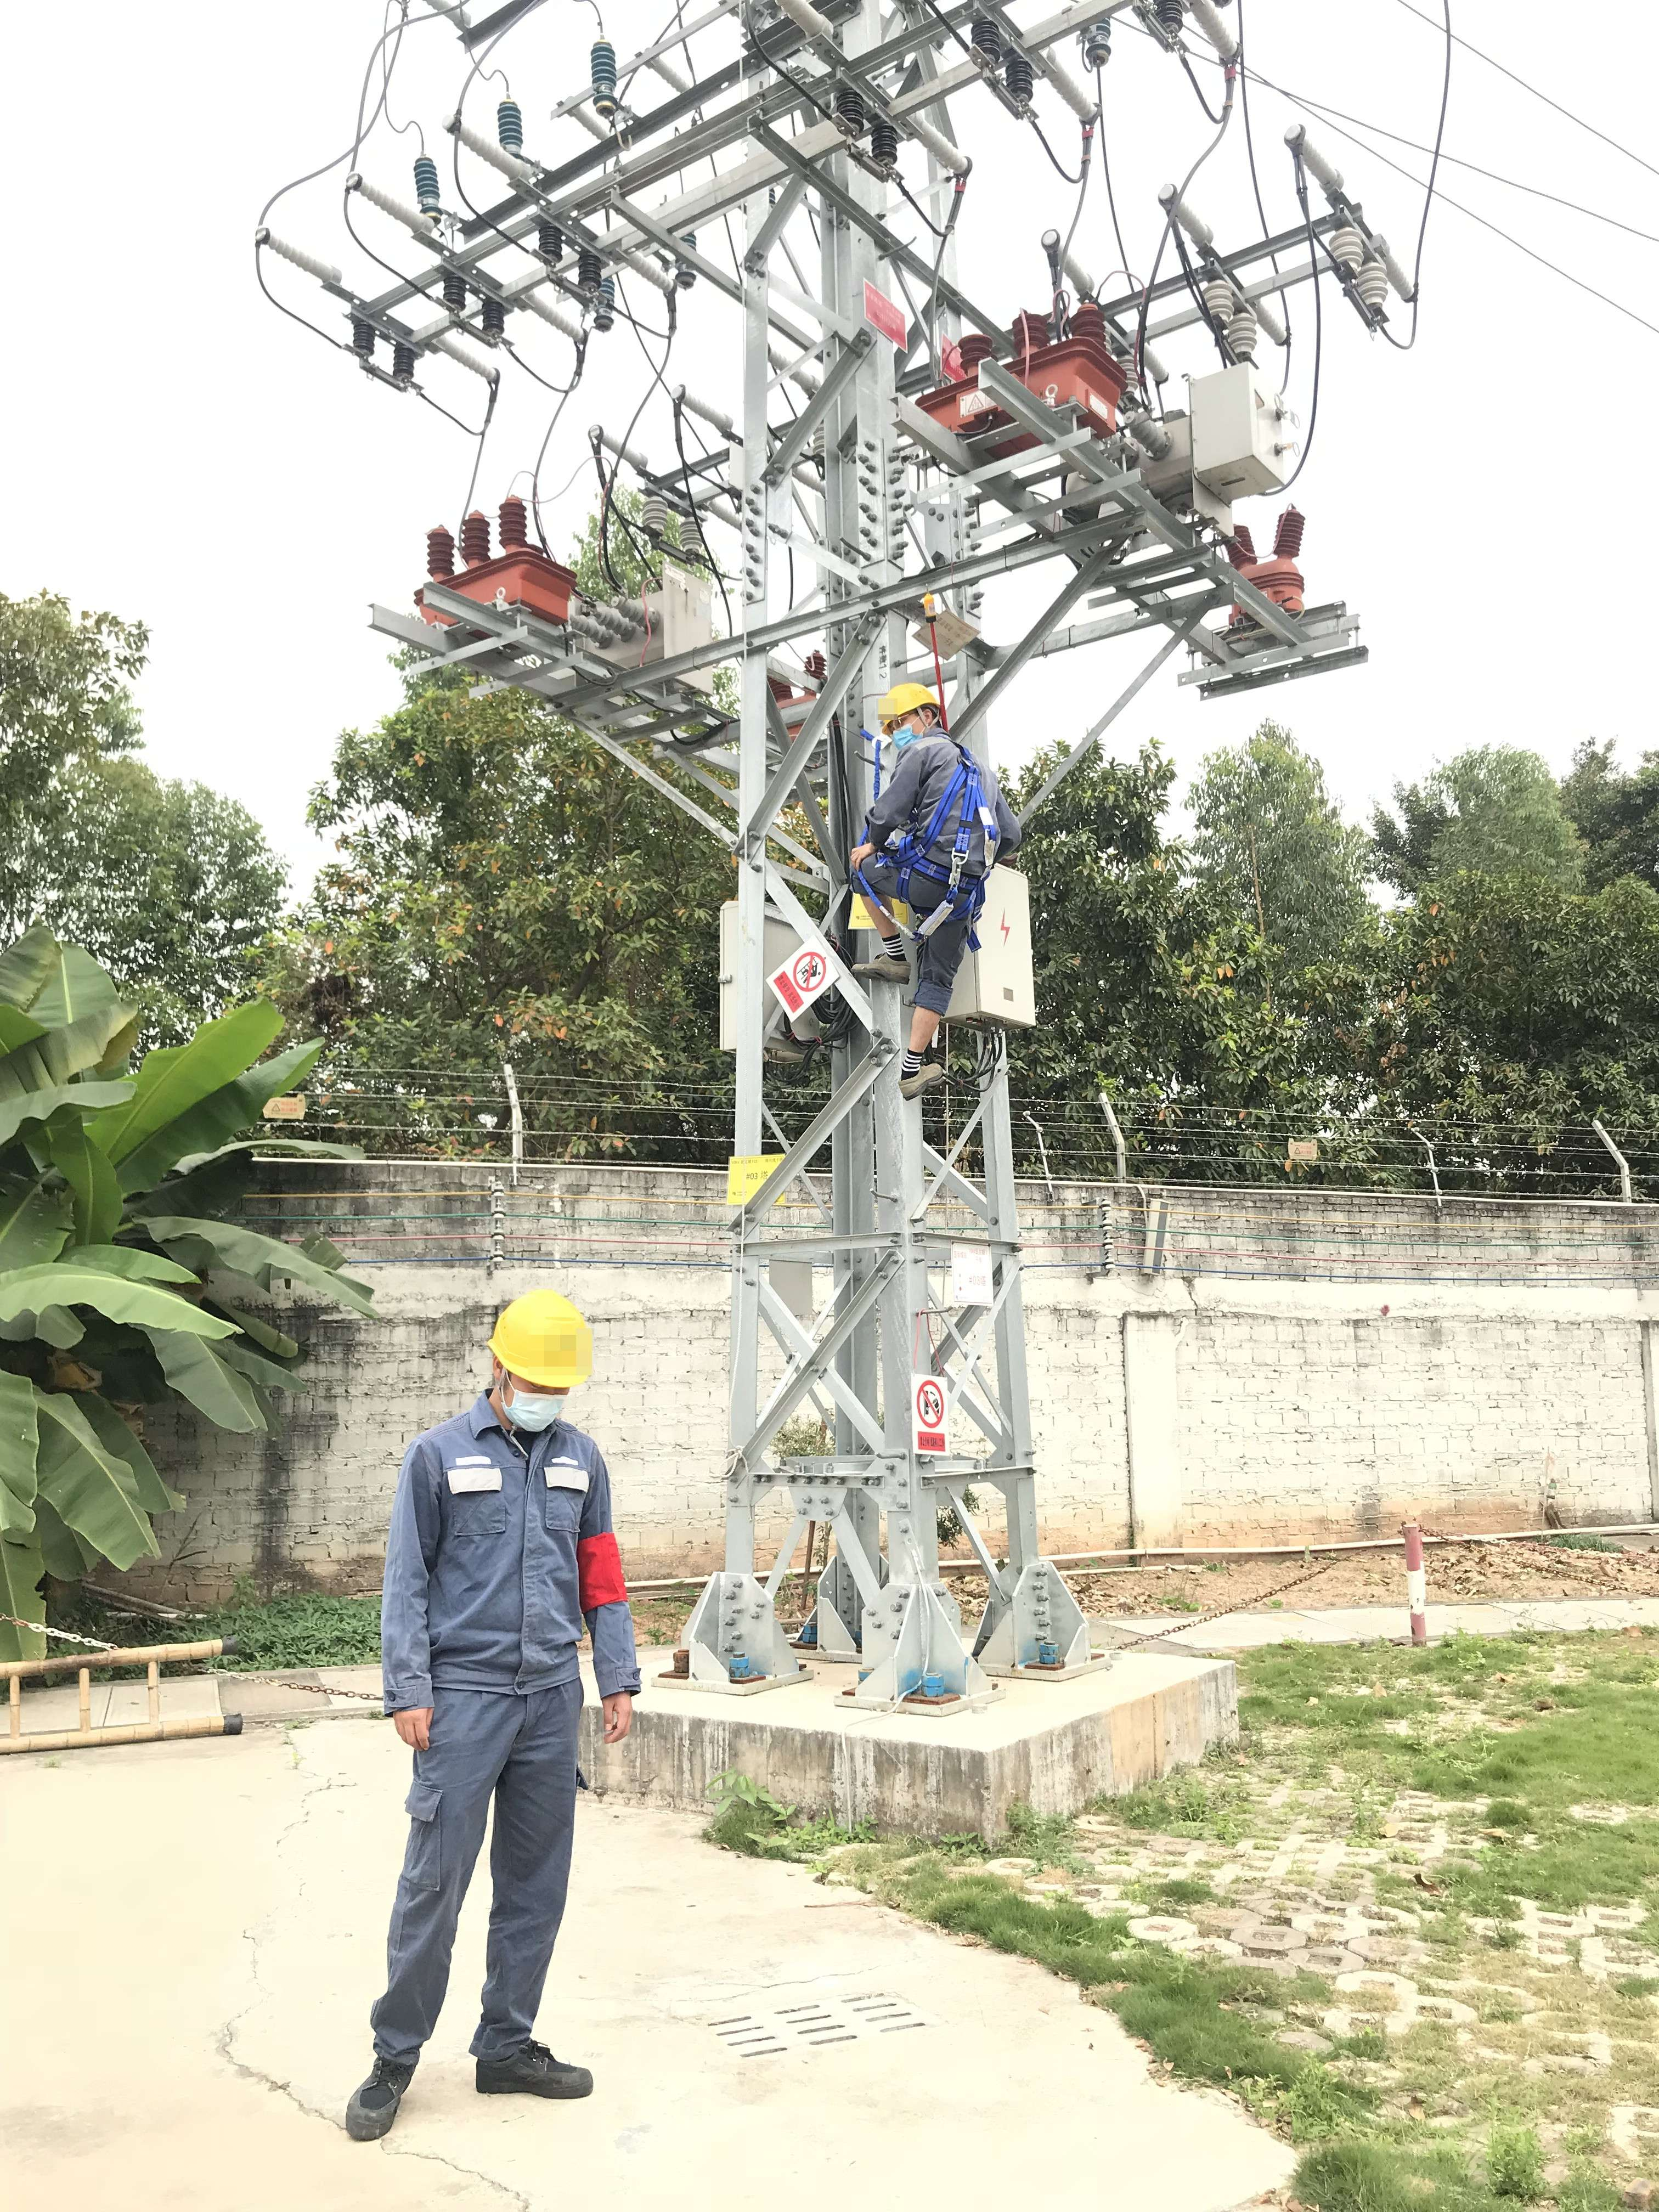downsuit: (366, 1712, 598, 2060), (911, 860, 972, 1003)
upsuit: (368, 1400, 652, 1700), (877, 738, 995, 834)
wrongbottom: (857, 876, 901, 948), (911, 984, 948, 1059)
